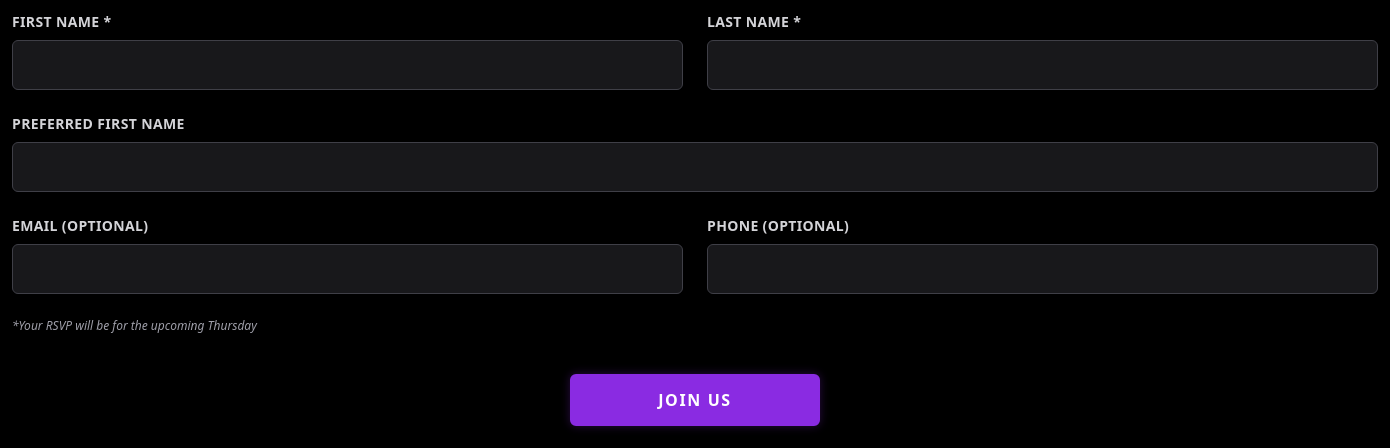
Test case: RsvpForm Component › submits the form successfully
Fill out the form
Type "John" into the field labelled "First Name *" at (348, 65), box [12, 40, 683, 90]
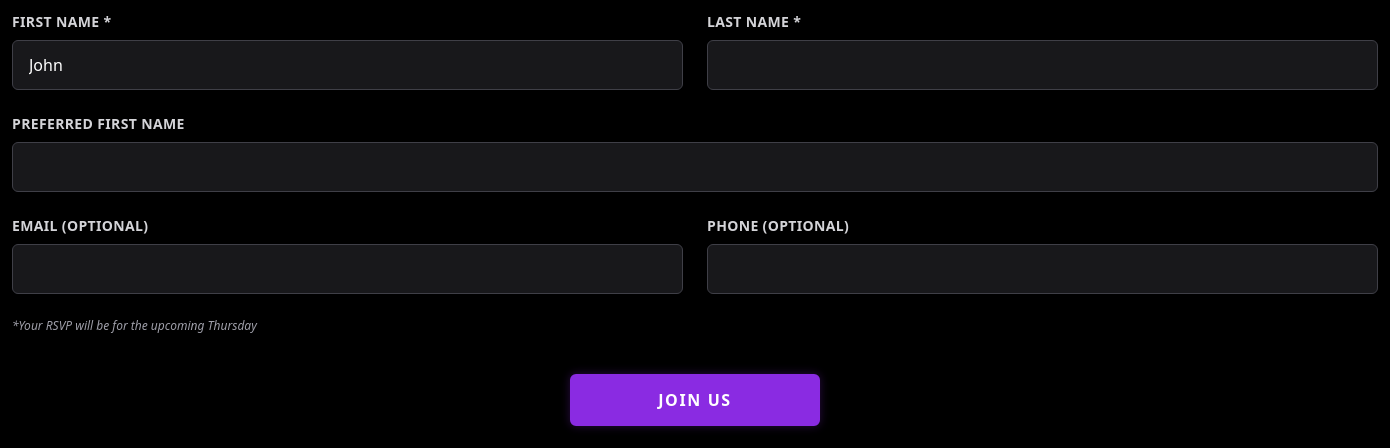
Type "Doe" into the field labelled "Last Name *" at (1042, 65), box [707, 40, 1378, 90]
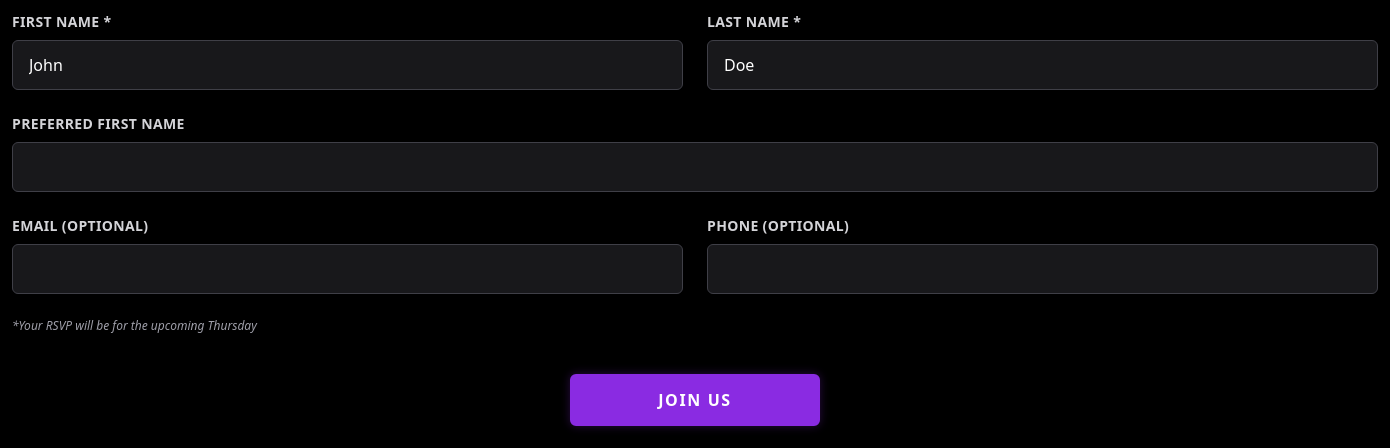
Click the button "Join Us" at (695, 400), box [570, 374, 820, 426]
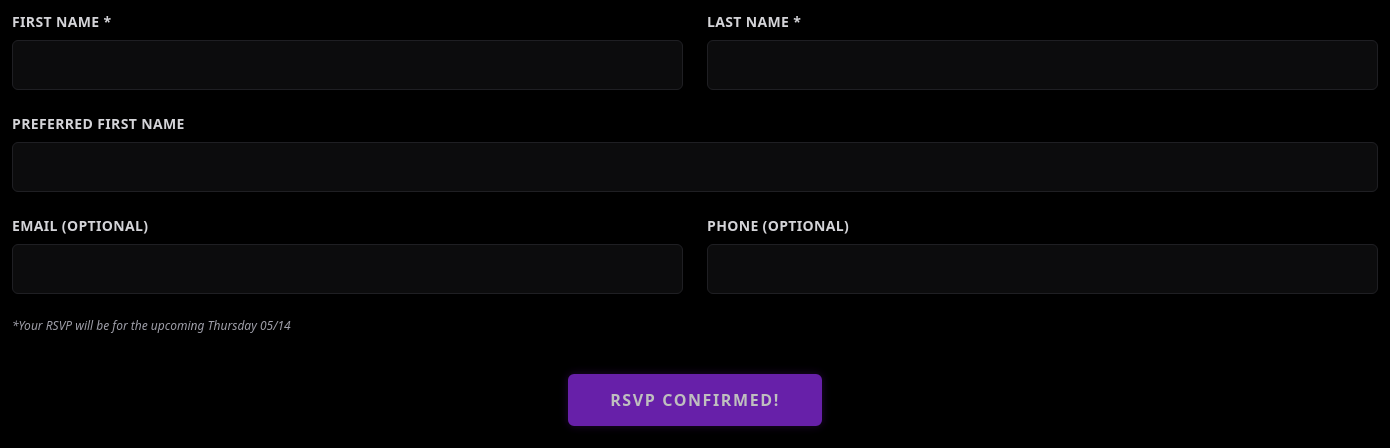
Expected: the button reads "RSVP Confirmed!", [568, 374, 822, 426]
